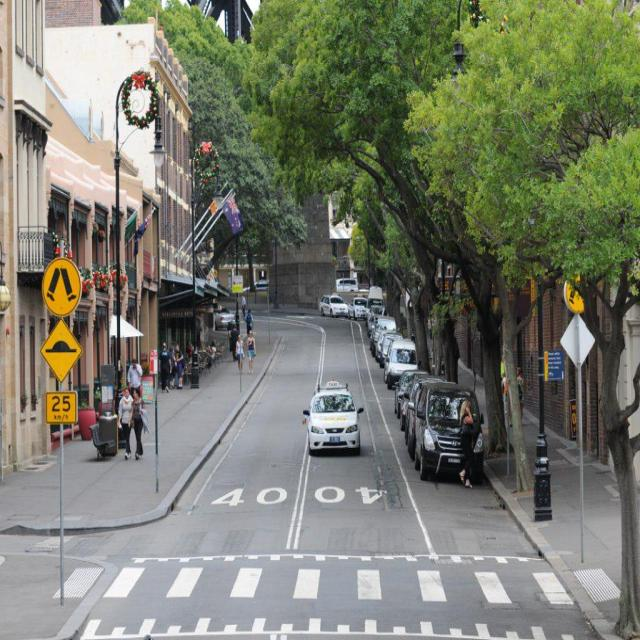car: (300, 375, 364, 459)
